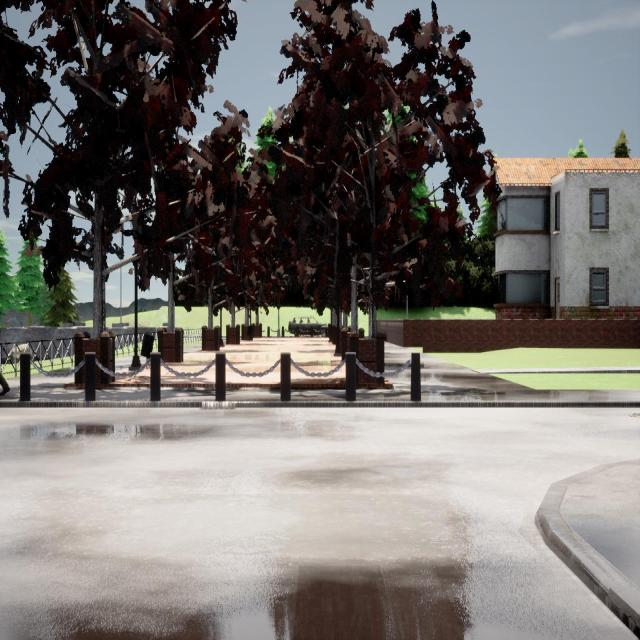Vehicle: (288, 315, 327, 337)
